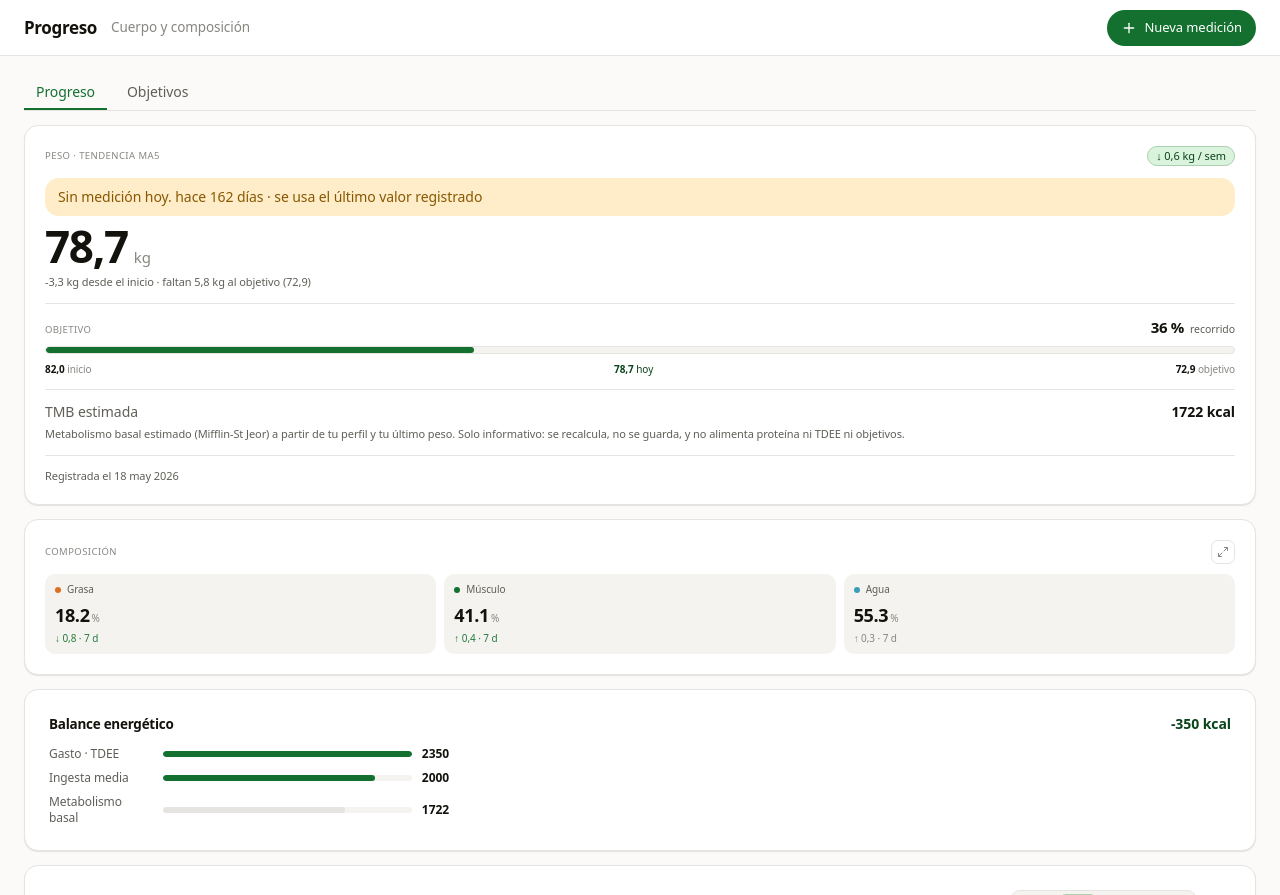
Test: ProgresoPage › opens the measurement dialog from the "Nueva medición" header action
Step 1. Click the button "Nueva medición" → (1181, 28), box [1106,10,1256,46]
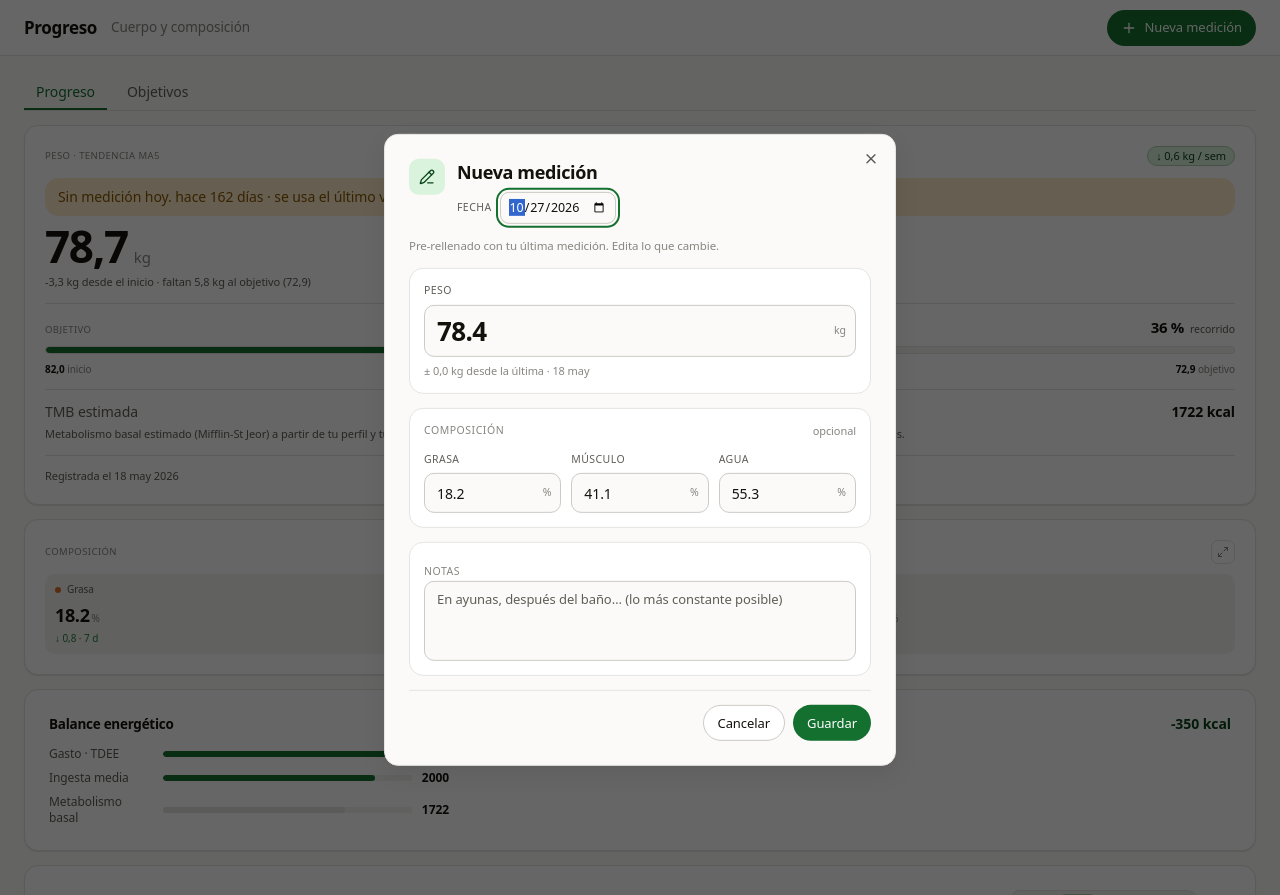
Check: the dialog shows "Nueva medición", box [457,160,597,184]
Check: the field labelled "Peso" is shown, box [424,304,856,356]
